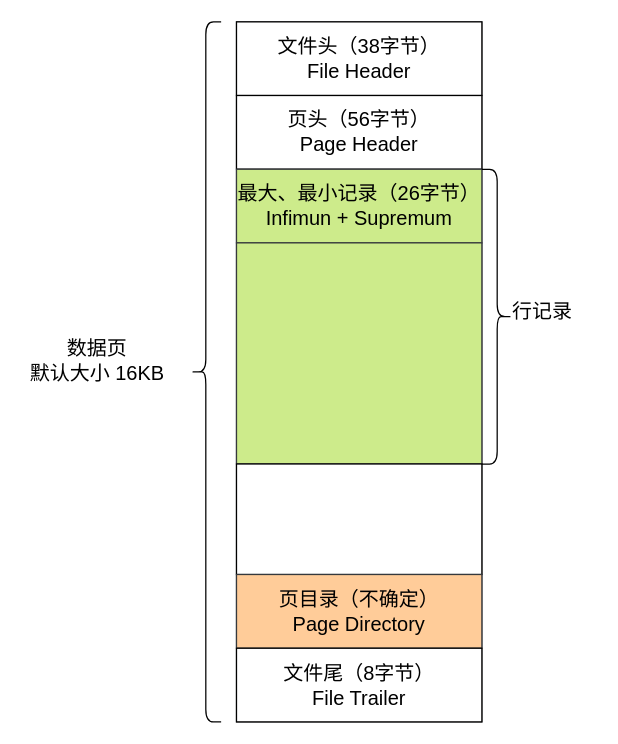
Some shapes in this 618 by 744 pixel diagram are drawn without their labels. The box of each missing label's shape, as (x1, y1, x2, y2) in pixels:
用户记录（不确定） User Records: (235, 242, 482, 464)
空闲空间（不确定） Free Space: (235, 463, 482, 574)
